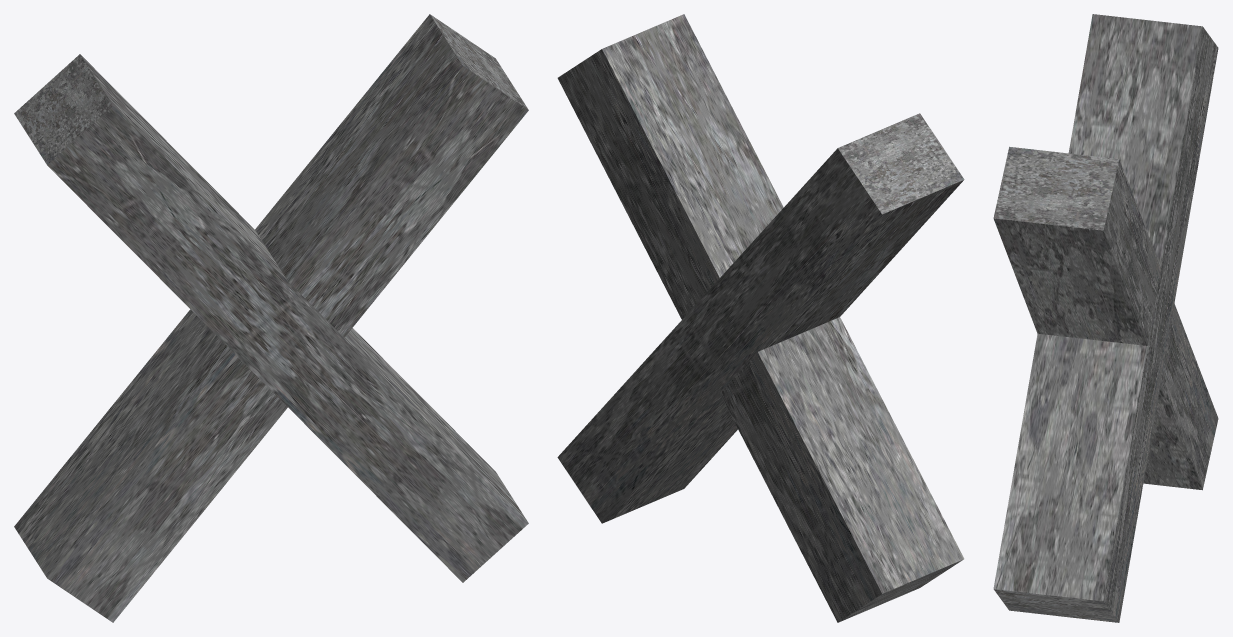
The model's file is quitButtonv2.fbx.
The picture shows the model from 3 angles, left to right: view 1: azimuth 30°, elevation 25°; view 2: azimuth 150°, elevation 25°; view 3: azimuth 270°, elevation 25°; orthographic projection. The views are drawn at different scales.
Visible parts, largest first — view 1: Cube; view 2: Cube; view 3: Cube.
Part boxes in pixels (left/top/right/bottom): Cube: left=14, top=14, right=528, bottom=622; Cube: left=557, top=14, right=964, bottom=622; Cube: left=993, top=14, right=1218, bottom=622.
Size of the model in its own units: 422 by 467 by 206.
